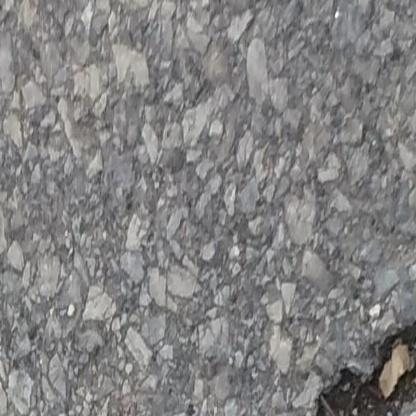Cracks: (310, 319, 416, 416)
